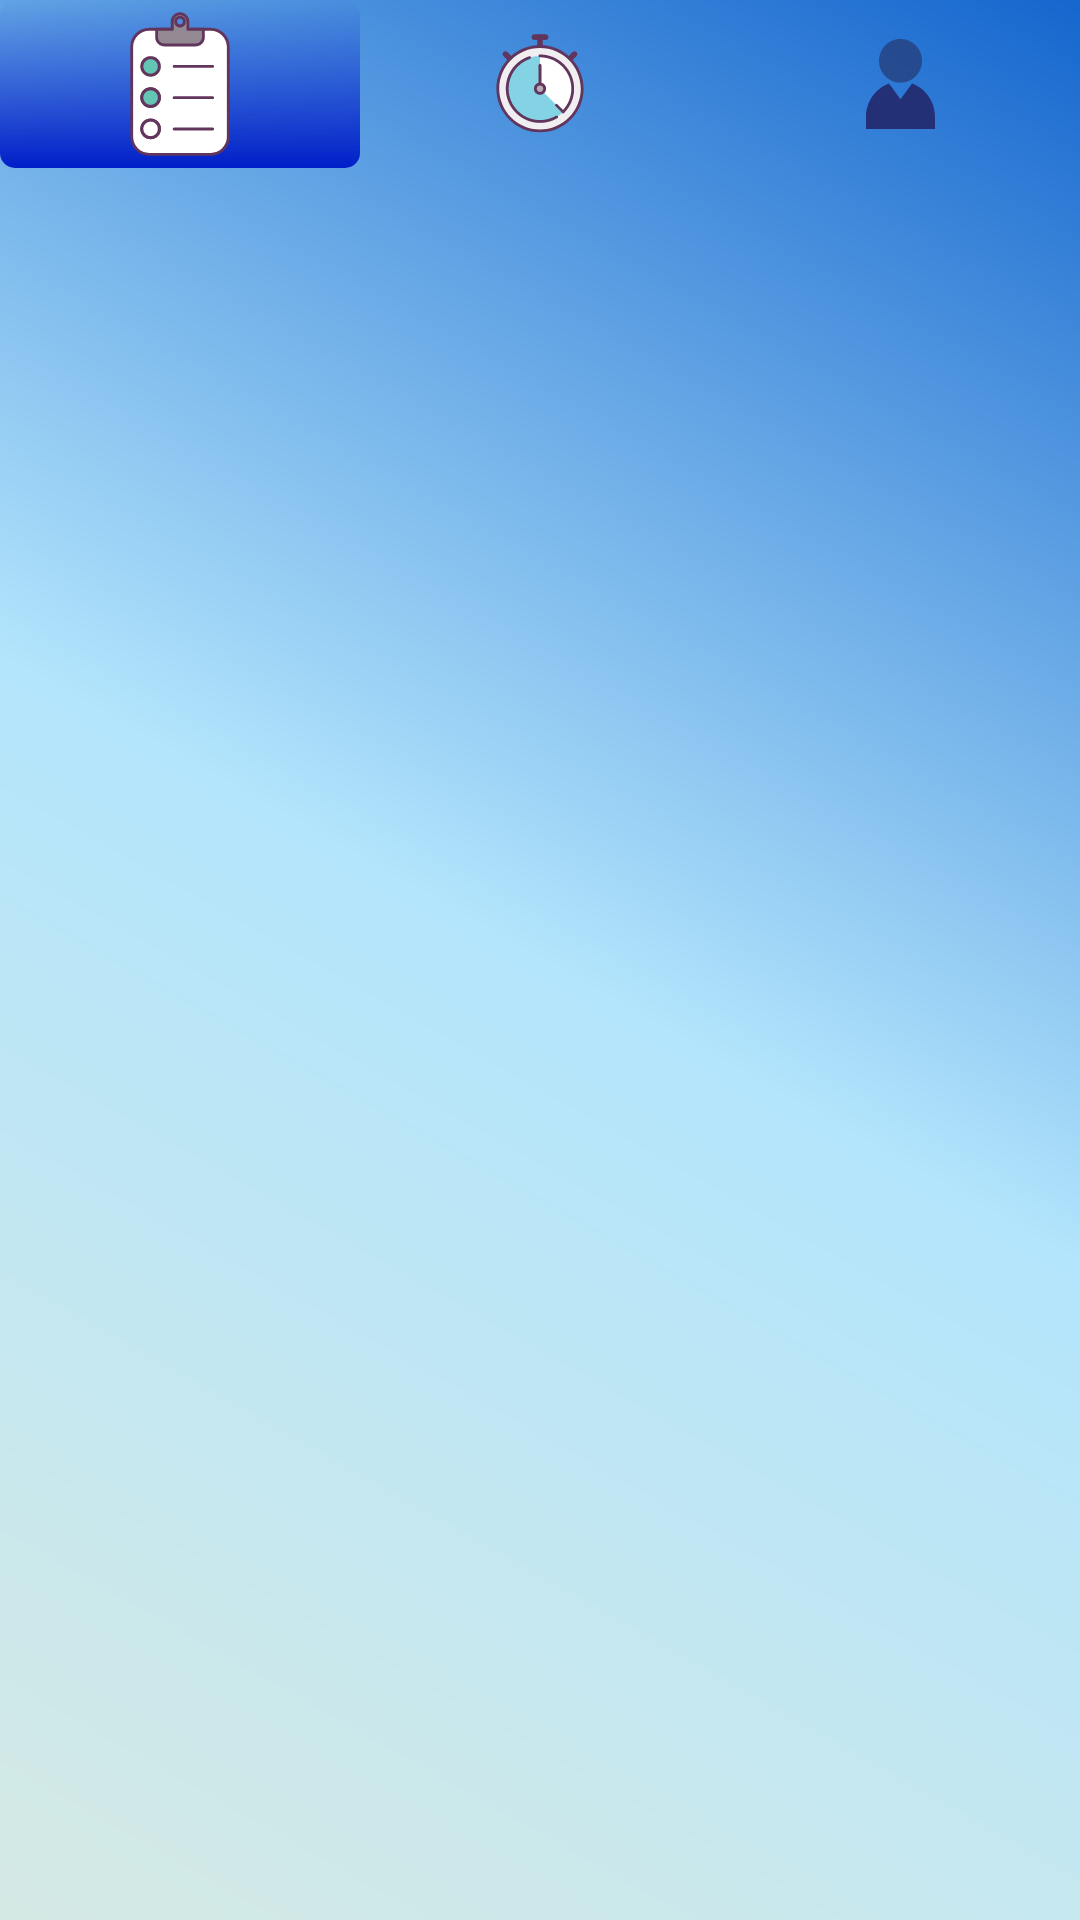

Icons on this 1080 x 1920 Android screen, each with the point to tap as point (x, y):
marcar: point (540, 83)
registro selec: point (180, 84)
